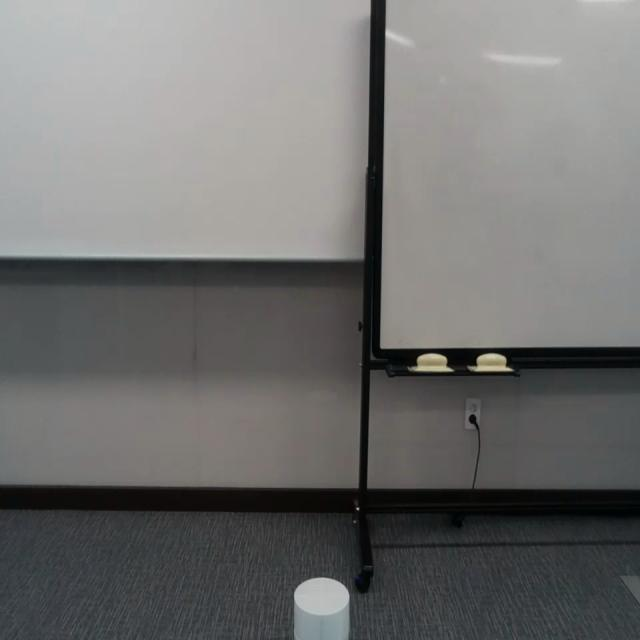cylinder: (292, 576, 349, 640)
